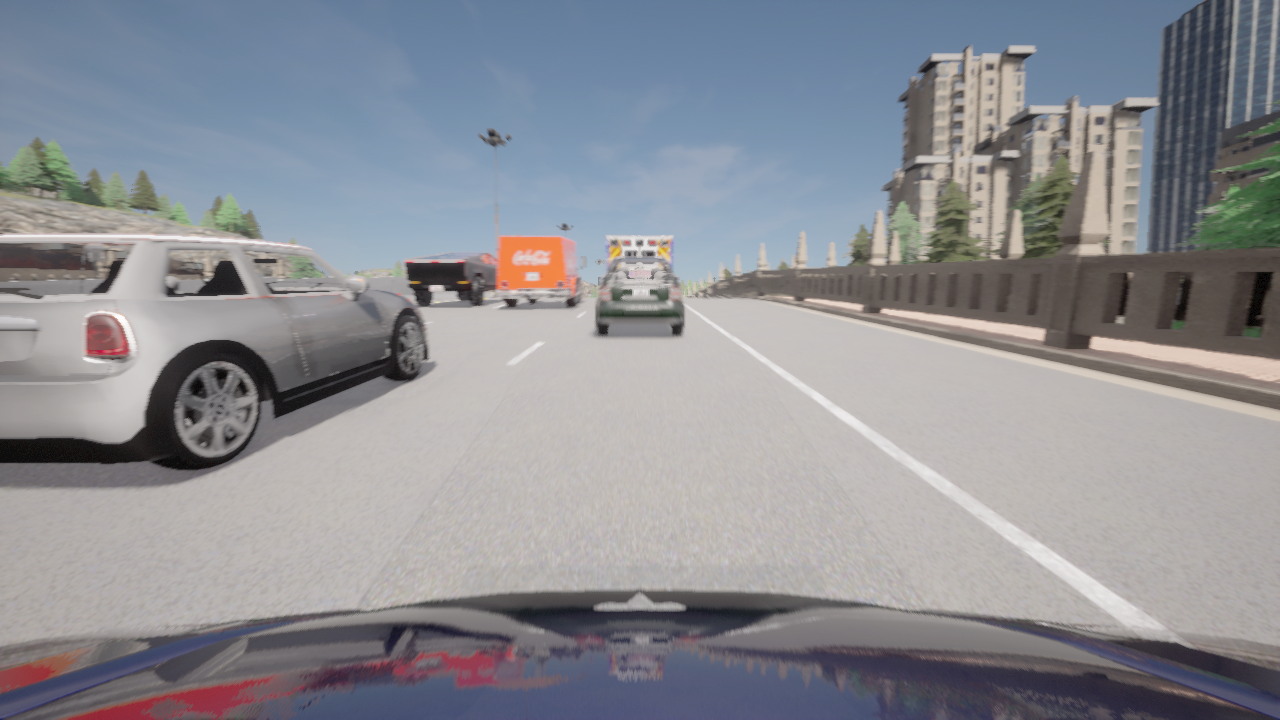cyclist: (0, 588, 1279, 719), (0, 233, 428, 470), (596, 257, 683, 335), (497, 235, 585, 307), (404, 252, 503, 305), (606, 236, 673, 270)
